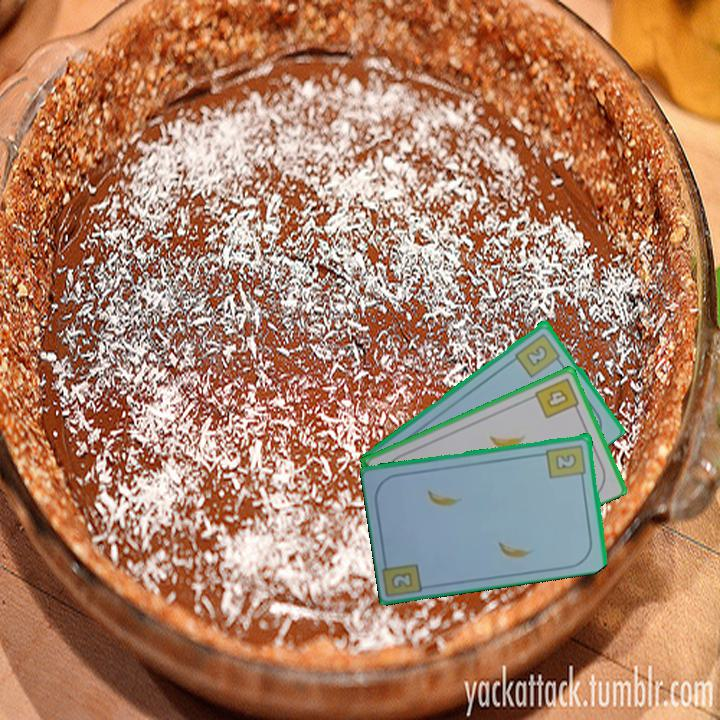2b: (511, 330, 565, 380), (543, 441, 589, 483), (388, 568, 416, 592)
4b: (531, 374, 583, 421)
